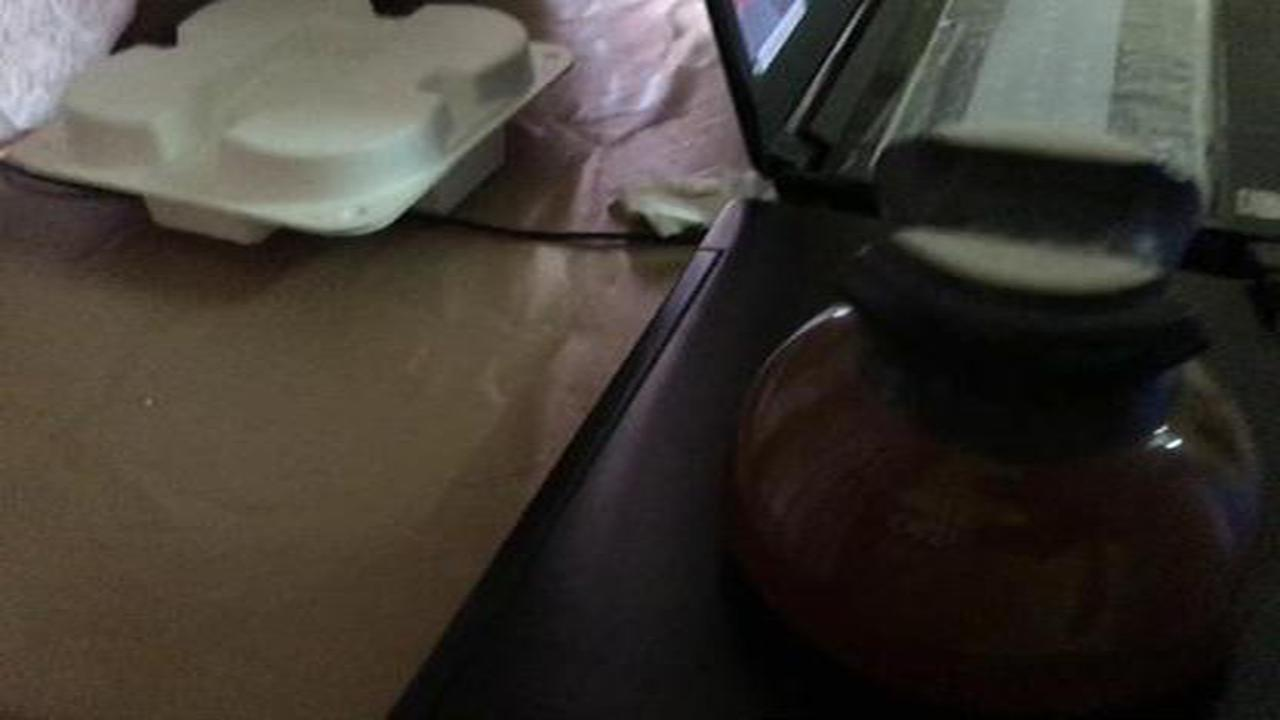insulator_pin: (717, 116, 1265, 695)
